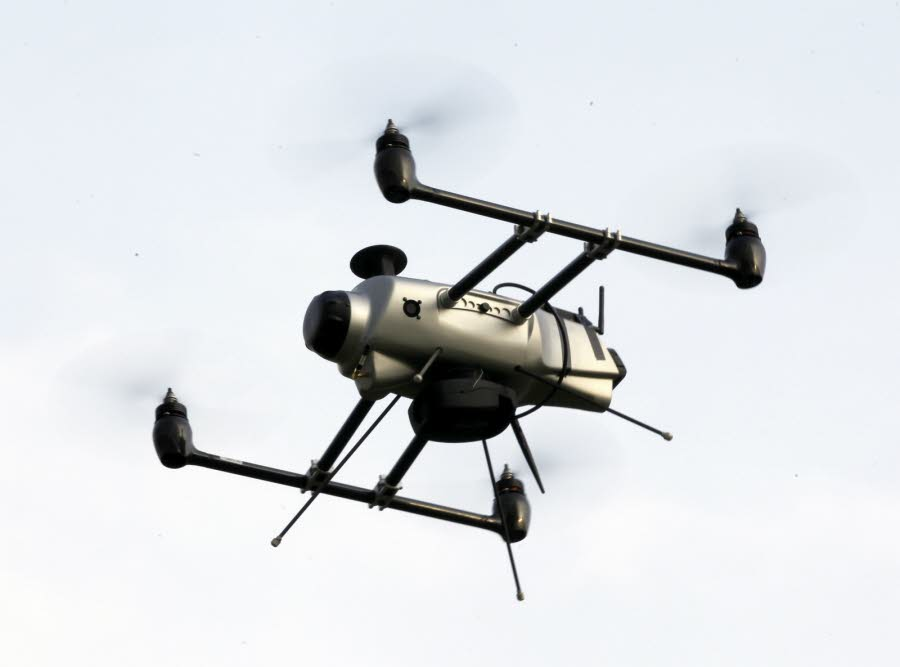drone_rotary_wing: (279, 66, 515, 201), (72, 362, 270, 471), (652, 175, 836, 290), (421, 445, 618, 544)
